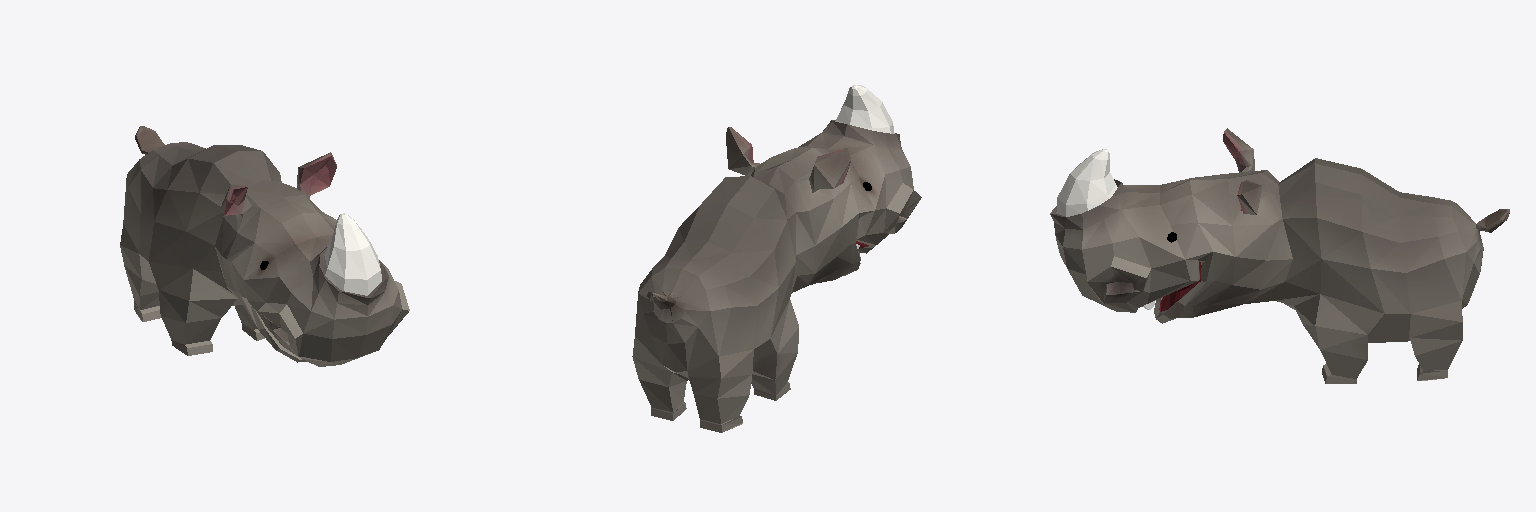
The picture shows the model from 3 angles: view 1: azimuth 30°, elevation 25°; view 2: azimuth 150°, elevation 25°; view 3: azimuth 270°, elevation 25°; orthographic projection.
Visible parts, largest first — view 1: RhinoCuerpoLOW Rhino, Rhino horn; view 2: RhinoCuerpoLOW Rhino, Rhino horn; view 3: RhinoCuerpoLOW Rhino, Rhino horn.
Part boxes in pixels (left/top/right/bottom): RhinoCuerpoLOW Rhino: left=120, top=126, right=409, bottom=366; Rhino horn: left=323, top=213, right=381, bottom=295; RhinoCuerpoLOW Rhino: left=632, top=120, right=921, bottom=432; Rhino horn: left=835, top=85, right=894, bottom=133; RhinoCuerpoLOW Rhino: left=1050, top=128, right=1509, bottom=383; Rhino horn: left=1056, top=149, right=1117, bottom=216.
Bounding box in the file's own units: 2.22 × 3.46 × 6.78.
5 materials, 1 textured.